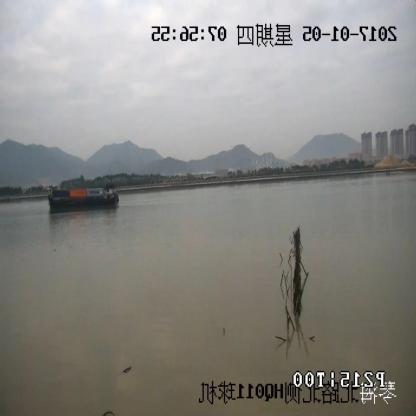Container Ship: (48, 187, 118, 211)
